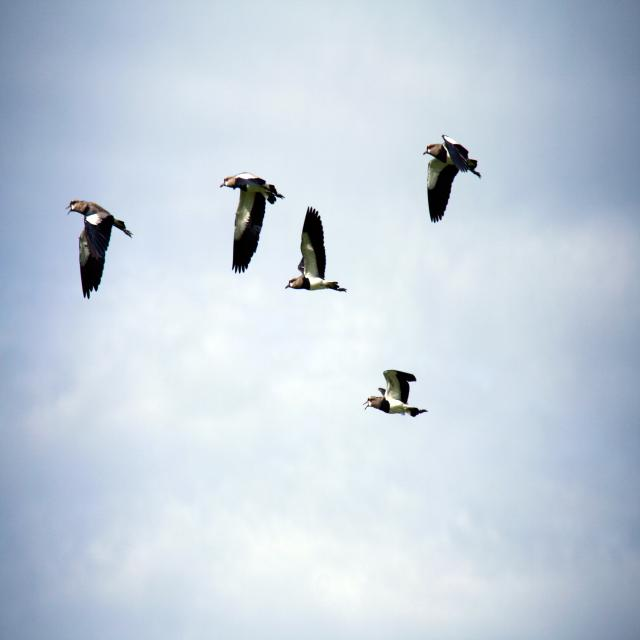bird: (70, 202, 134, 303), (223, 177, 285, 275), (423, 142, 485, 225), (287, 206, 344, 294), (365, 370, 426, 420)
